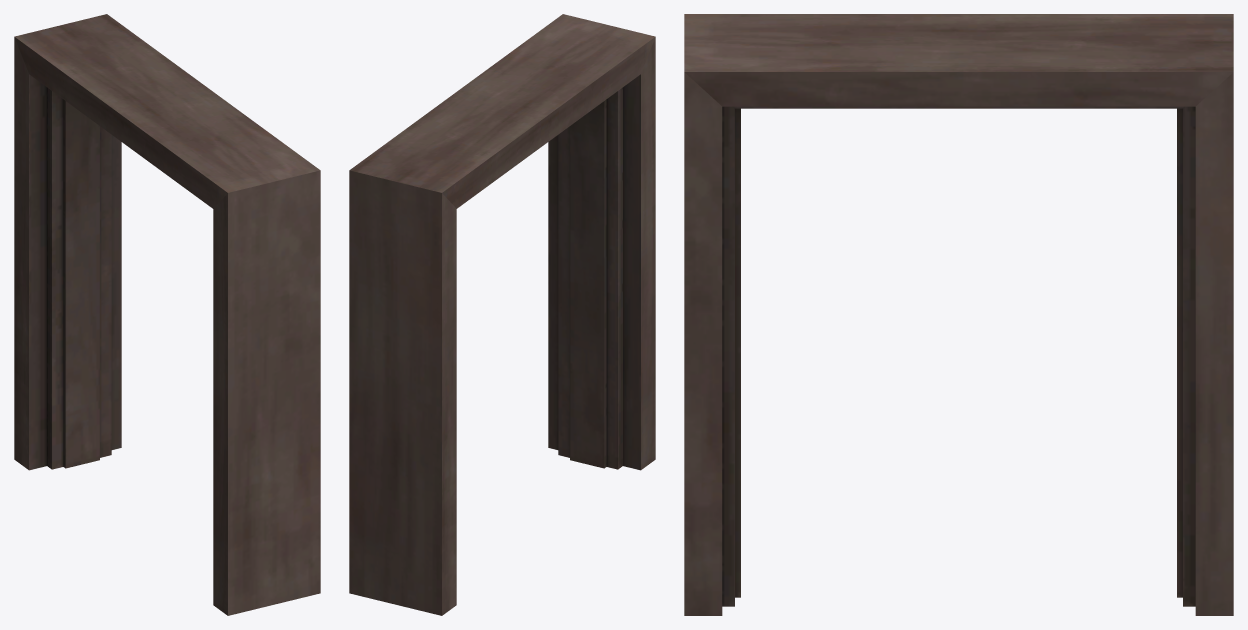
File: doorframe_02.glb
3 renders of one model, left to right at view 1: azimuth 30°, elevation 25°; view 2: azimuth 150°, elevation 25°; view 3: azimuth 270°, elevation 25°, orthographic. The views are drawn at different scales.
Parts seen in each view (by area): view 1: doorframe_02; view 2: doorframe_02; view 3: doorframe_02.
Part boxes in pixels (x1,y1,x2,y2): doorframe_02: (14,14,320,615); doorframe_02: (349,14,655,615); doorframe_02: (684,14,1233,615).
Size of the model in its own units: 0.6201 by 2.71 by 2.48.
1 material, 1 textured.
